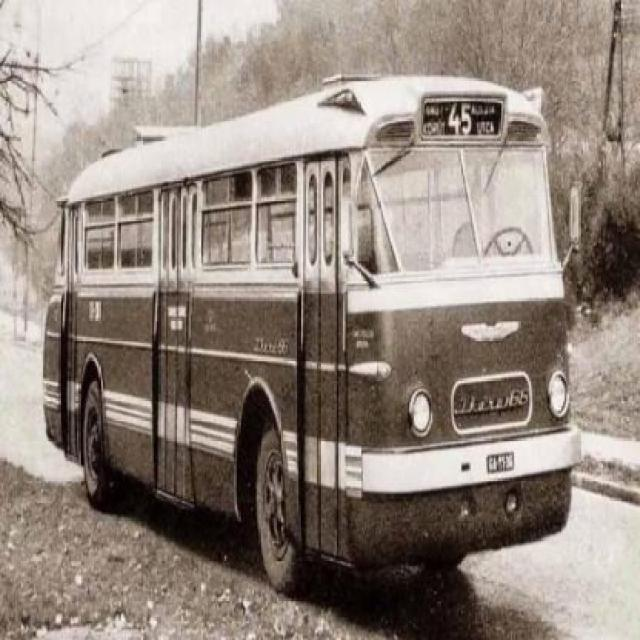bus: (44, 75, 573, 592)
